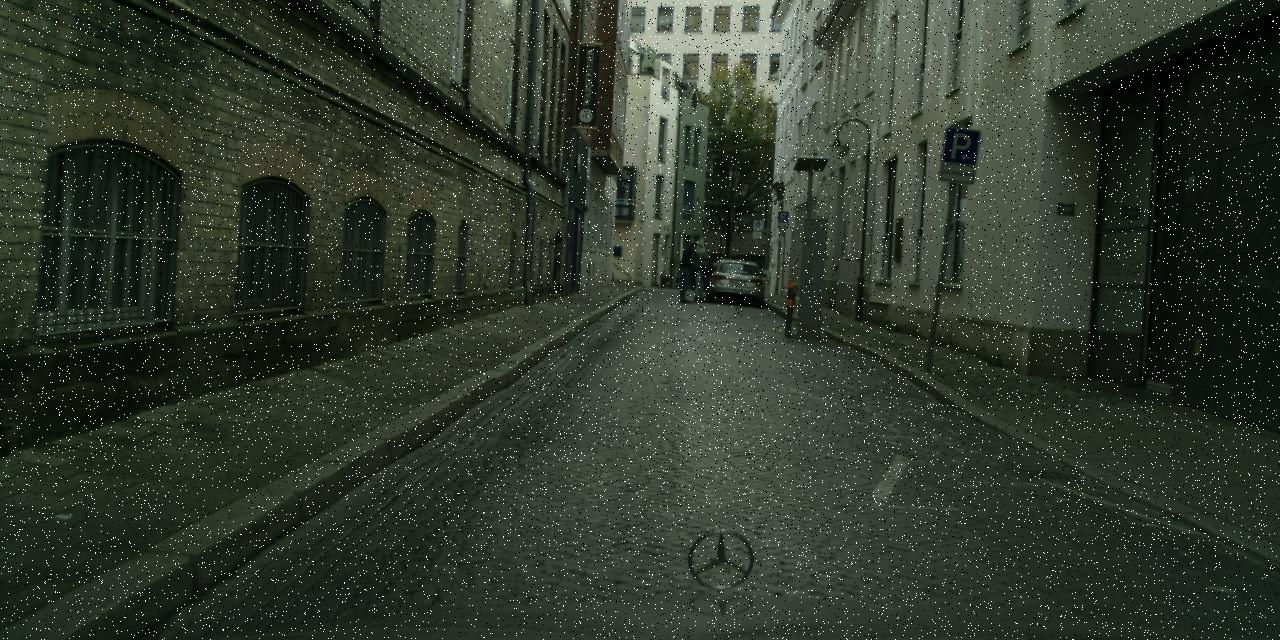ped: (676, 242, 700, 302), (660, 270, 666, 288)
